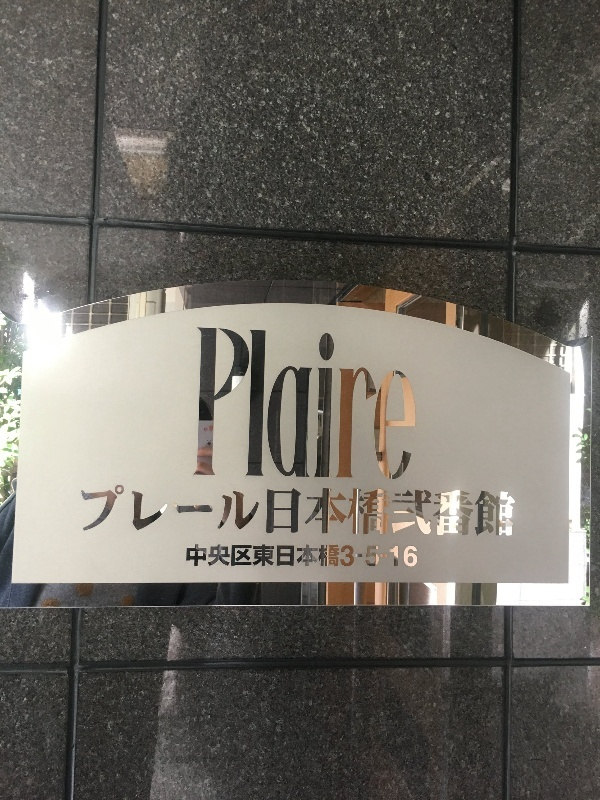text: (209, 325, 224, 481), (225, 325, 240, 481), (241, 325, 256, 481), (257, 325, 272, 481), (273, 325, 288, 481), (289, 325, 304, 481), (305, 325, 320, 481), (321, 325, 336, 481), (337, 325, 352, 481), (353, 325, 368, 481), (369, 325, 384, 481), (385, 325, 400, 481), (401, 325, 416, 481), (197, 325, 208, 481), (81, 484, 96, 538), (97, 484, 112, 538), (113, 484, 128, 538), (129, 484, 144, 538), (145, 484, 160, 538), (161, 484, 176, 538), (177, 484, 192, 538), (193, 484, 208, 538), (209, 484, 224, 538), (225, 484, 240, 538), (241, 484, 256, 538), (257, 484, 272, 538), (273, 484, 288, 538), (289, 484, 304, 538), (305, 484, 320, 538), (321, 484, 336, 538), (337, 484, 352, 538), (353, 484, 368, 538), (369, 484, 384, 538), (385, 484, 400, 538), (401, 484, 416, 538), (417, 484, 432, 538), (433, 484, 448, 538), (449, 484, 464, 538), (465, 484, 480, 538), (481, 484, 496, 538), (497, 484, 512, 538), (193, 542, 208, 570), (209, 542, 224, 570), (225, 542, 240, 570), (241, 542, 256, 570), (257, 542, 272, 570), (273, 542, 288, 570), (289, 542, 304, 570), (305, 542, 320, 570), (321, 542, 336, 570), (337, 542, 352, 570), (353, 542, 368, 570), (369, 542, 384, 570), (385, 542, 400, 570), (401, 542, 416, 570), (417, 325, 419, 481), (513, 484, 517, 538), (187, 542, 192, 570), (417, 542, 418, 570)
